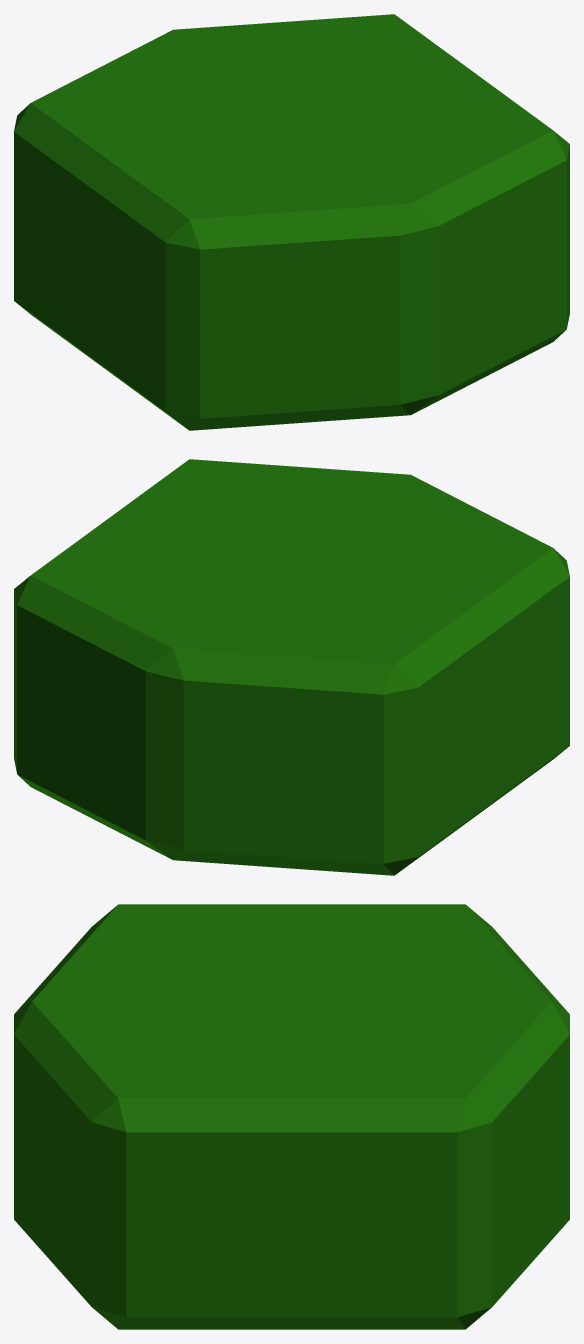
Rendered from Tiles.fbx.
3 views of the same model, one above another, from view 1: azimuth 30°, elevation 25°; view 2: azimuth 150°, elevation 25°; view 3: azimuth 270°, elevation 25° (orthographic). The views are drawn at different scales.
Visible parts, largest first — view 1: Hex Tile Basic; view 2: Hex Tile Basic; view 3: Hex Tile Basic.
Boxes of the visible parts, bbox=[...] form: Hex Tile Basic: bbox=[14, 14, 569, 430]; Hex Tile Basic: bbox=[14, 459, 569, 875]; Hex Tile Basic: bbox=[14, 904, 569, 1329].
Size of the model in its own units: 200 by 100 by 218.
